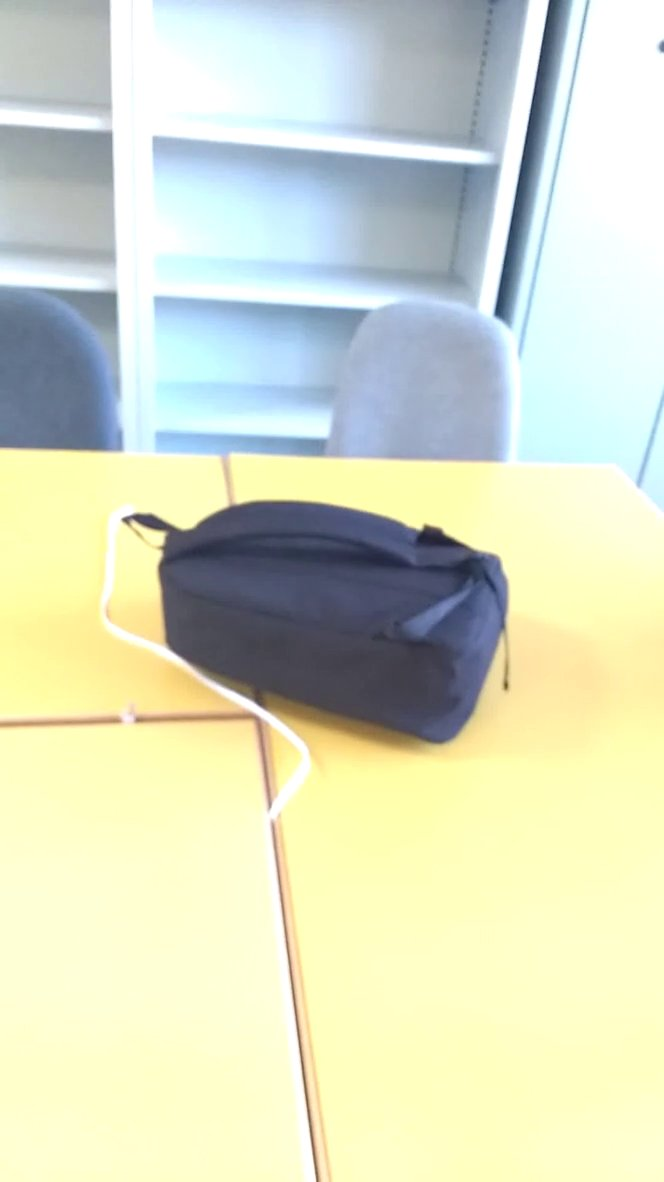bag: (114, 491, 536, 753)
chair: (308, 266, 531, 475)
